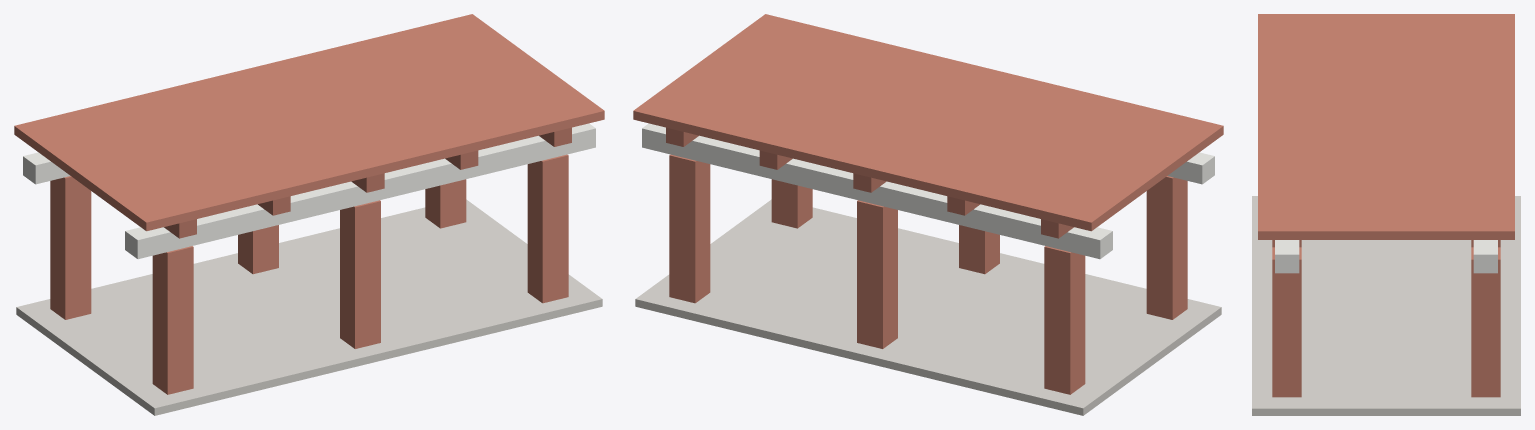
File: pergola.glb
The picture shows the model from 3 angles, left to right: view 1: azimuth 30°, elevation 25°; view 2: azimuth 150°, elevation 25°; view 3: azimuth 270°, elevation 25°; orthographic projection. The views are drawn at different scales.
Visible parts, largest first — view 1: Pergola__14, Pergola__0, Pergola__7, Pergola__5, Pergola__1, Pergola__3, Pergola__2, Pergola__6, Pergola__4, Pergola__8; view 2: Pergola__14, Pergola__0, Pergola__8, Pergola__6, Pergola__2, Pergola__4, Pergola__1, Pergola__5, Pergola__3, Pergola__7; view 3: Pergola__14, Pergola__0, Pergola__5, Pergola__6, Pergola__7, Pergola__8.
Boxes of the visible parts, box(x1,y1,x2,y2) form: Pergola__14: box(14, 14, 604, 231); Pergola__0: box(16, 199, 602, 415); Pergola__7: box(125, 123, 595, 259); Pergola__5: box(527, 154, 568, 303); Pergola__1: box(152, 246, 193, 394); Pergola__3: box(340, 200, 380, 348); Pergola__2: box(50, 176, 91, 319); Pergola__6: box(425, 179, 466, 228); Pergola__4: box(238, 225, 278, 274); Pergola__8: box(23, 152, 70, 184); Pergola__14: box(633, 14, 1223, 231); Pergola__0: box(635, 199, 1221, 415); Pergola__8: box(642, 123, 1112, 259); Pergola__6: box(669, 154, 710, 303); Pergola__2: box(1044, 246, 1085, 394); Pergola__4: box(857, 200, 897, 348); Pergola__1: box(1146, 176, 1187, 319); Pergola__5: box(771, 179, 812, 228); Pergola__3: box(959, 225, 999, 274); Pergola__7: box(1167, 152, 1214, 184); Pergola__14: box(1258, 14, 1514, 239); Pergola__0: box(1252, 196, 1520, 415); Pergola__5: box(1272, 247, 1301, 397); Pergola__6: box(1471, 247, 1500, 397); Pergola__7: box(1275, 240, 1299, 273); Pergola__8: box(1473, 240, 1497, 273).
Bounding box in the file's own units: 8.8 × 3.53 × 4.6.
